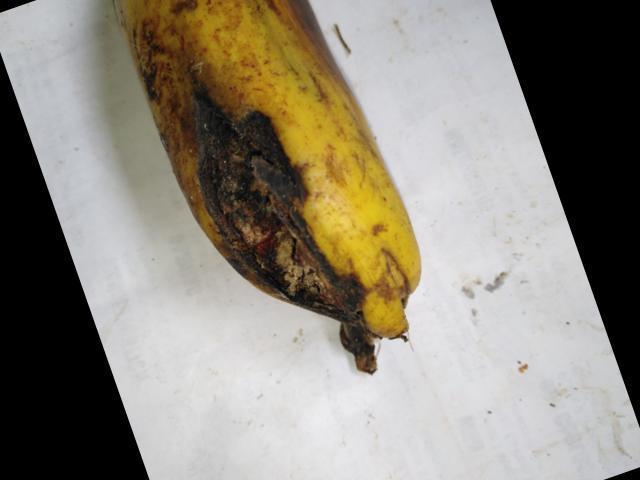ripe: (101, 0, 353, 133)
rotten: (155, 114, 426, 380)
